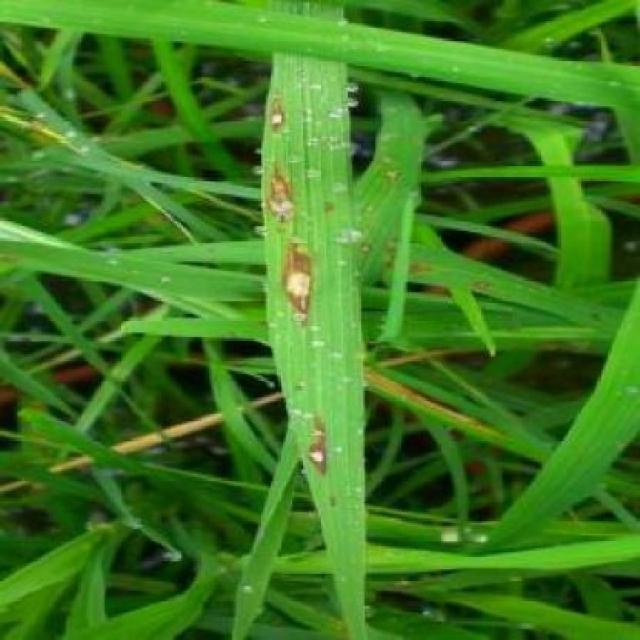Bacterial_Leaf_Blight: (261, 156, 324, 232), (294, 414, 348, 491), (276, 228, 324, 314), (254, 81, 309, 150)
